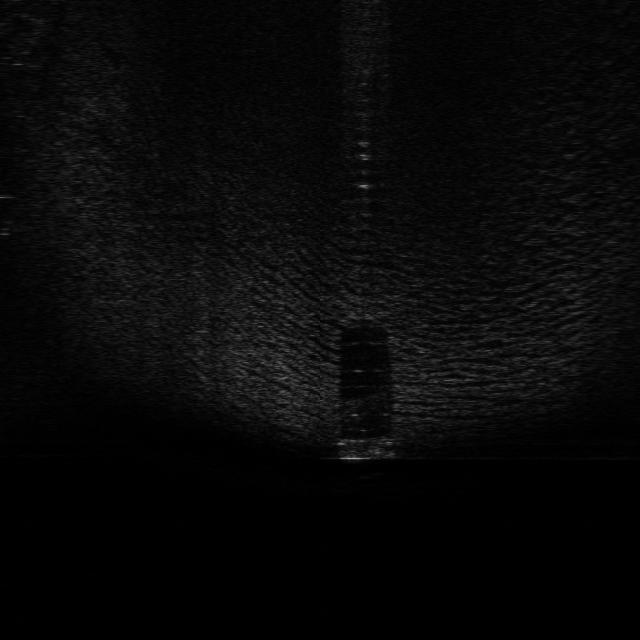cube: (336, 434, 400, 462)
